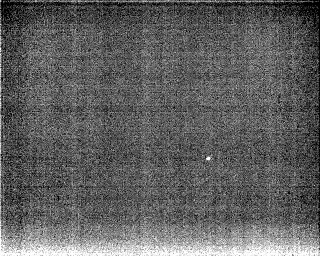AIRPLANE: (204, 153, 214, 165)
